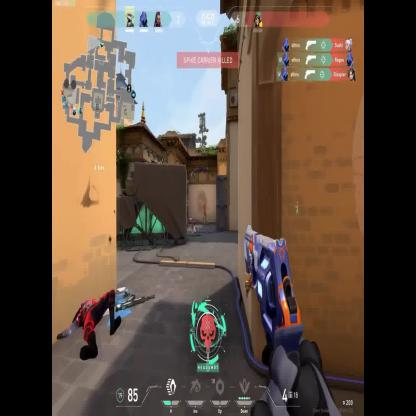enemy: (203, 203, 207, 224)
enemy_head: (204, 203, 206, 207)
